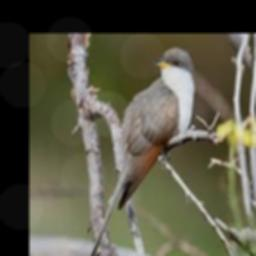Cuckoo: (88, 47, 196, 256)
